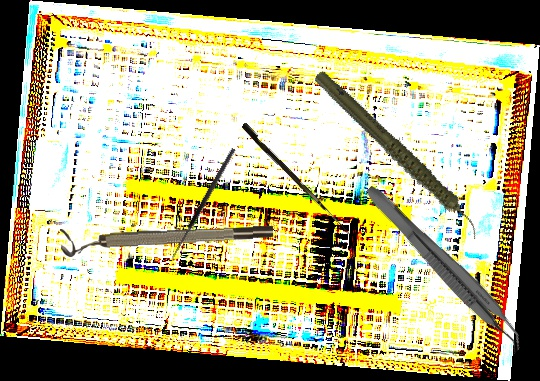Fixation Ring: (60, 221, 274, 258)
Handpiece: (310, 43, 484, 268)
Hook Surgical: (239, 122, 355, 235), (168, 147, 242, 265)
Tissue Forceps: (354, 181, 534, 357)
